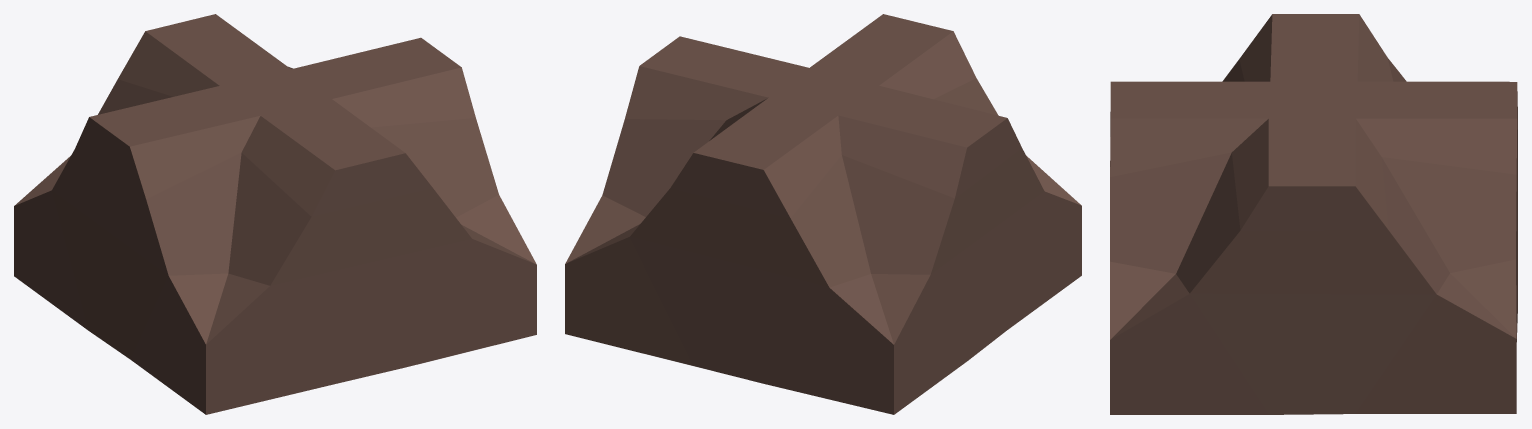
File: Cave_Floor_Corner_4_Sided.fbx
The picture shows the model from 3 angles, left to right: view 1: azimuth 30°, elevation 25°; view 2: azimuth 150°, elevation 25°; view 3: azimuth 270°, elevation 25°; orthographic projection. The views are drawn at different scales.
Parts seen in each view (by area): view 1: Cave_Floor_Corner_4_Sided; view 2: Cave_Floor_Corner_4_Sided; view 3: Cave_Floor_Corner_4_Sided.
Part boxes in pixels (<box>): Cave_Floor_Corner_4_Sided: <box>14,14,536,414</box>; Cave_Floor_Corner_4_Sided: <box>565,14,1081,414</box>; Cave_Floor_Corner_4_Sided: <box>1110,14,1517,414</box>.
Bounding box in the file's own units: 4.95 × 4.93 × 3.05.
